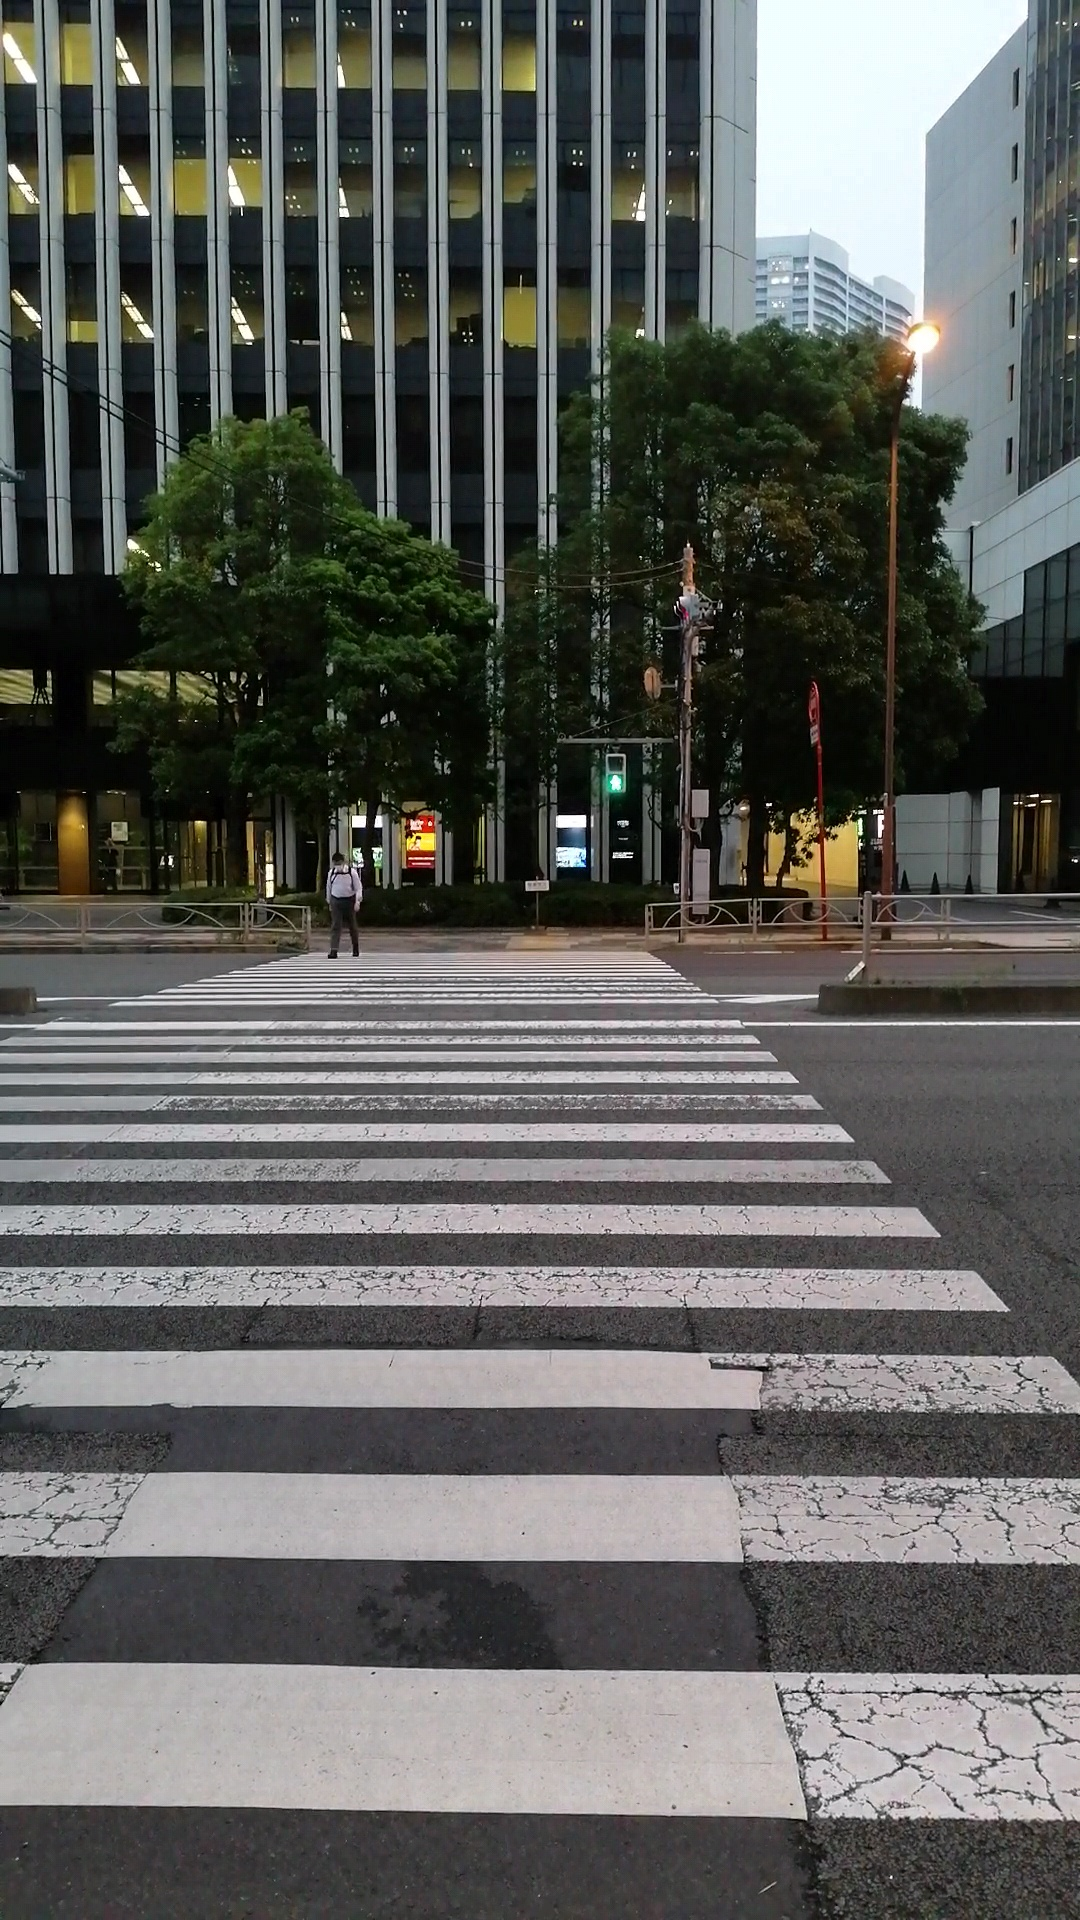green: (604, 753, 626, 793)
